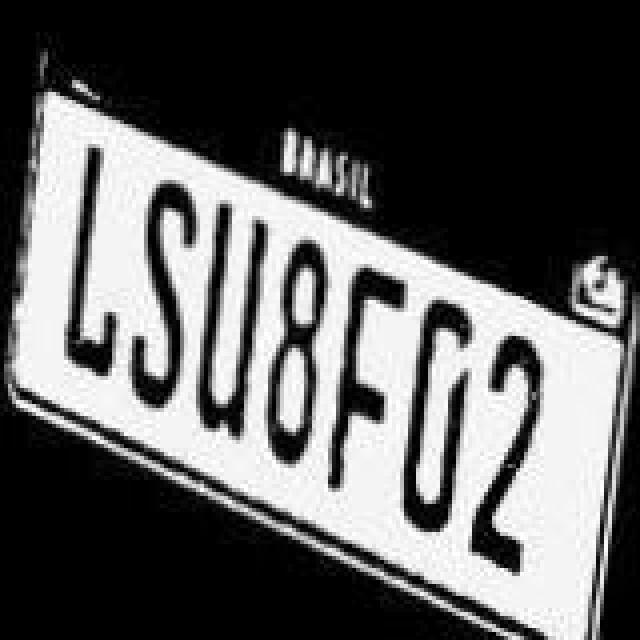2: (468, 328, 544, 572)
8: (266, 238, 330, 470)
D: (404, 290, 472, 530)
F: (328, 256, 404, 492)
L: (66, 142, 122, 386)
S: (134, 170, 198, 414)
U: (200, 194, 268, 450)
